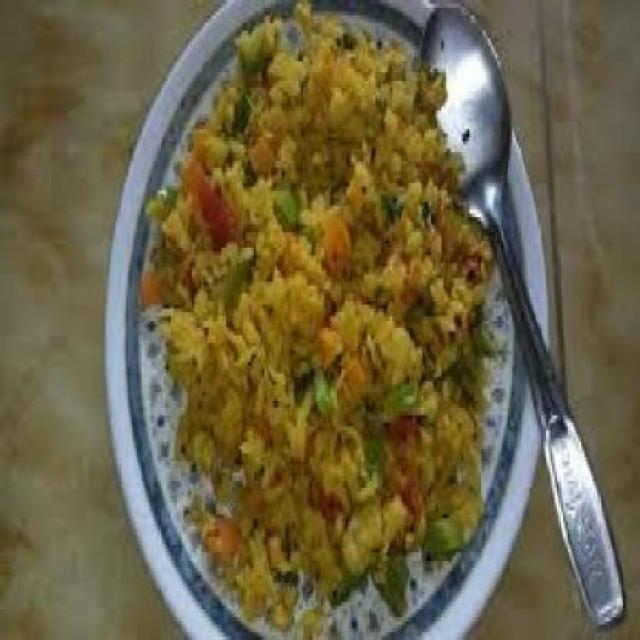poha: (140, 0, 494, 640)
